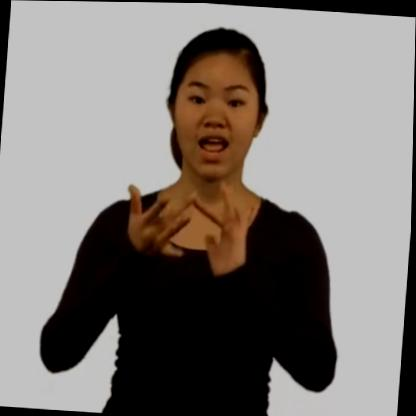Internet: (115, 170, 260, 298)
